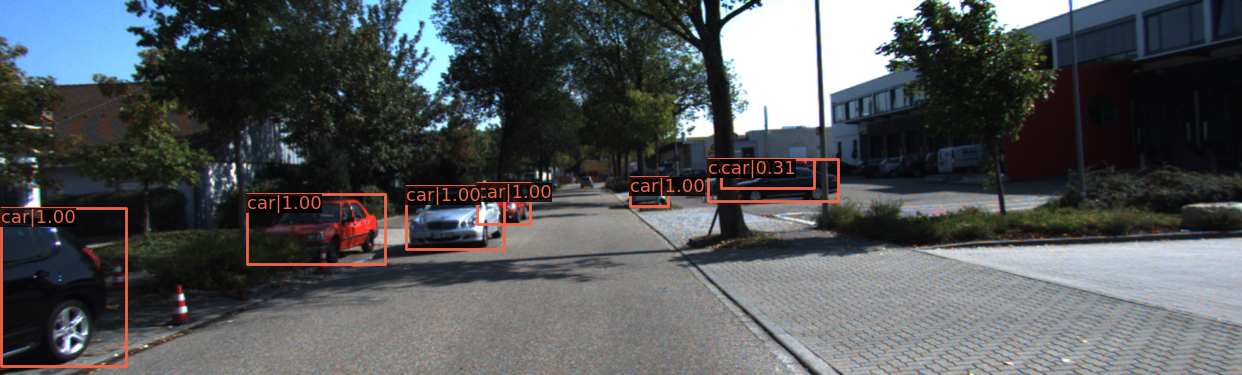car: (1, 207, 128, 375), (246, 196, 380, 268), (401, 189, 506, 253), (722, 158, 821, 200), (728, 166, 843, 202), (473, 186, 529, 226), (631, 178, 667, 209)
